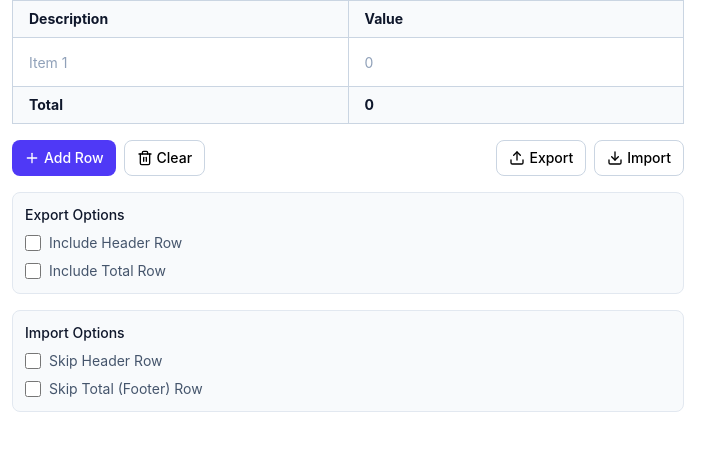
Test case: ColumnSumTable › Table Clear › should clear validation errors when Clear is clicked
Type "invalid" into the field named "value for row 1" at (516, 62), box [352, 42, 679, 82]
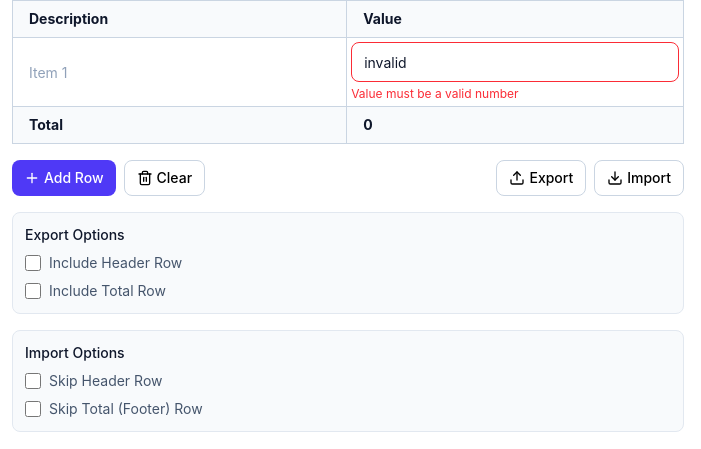
expect the text "Value must be a valid number" is shown: met, box [351, 86, 519, 101]
Click the button "Clear" at (164, 178), box [124, 160, 205, 196]
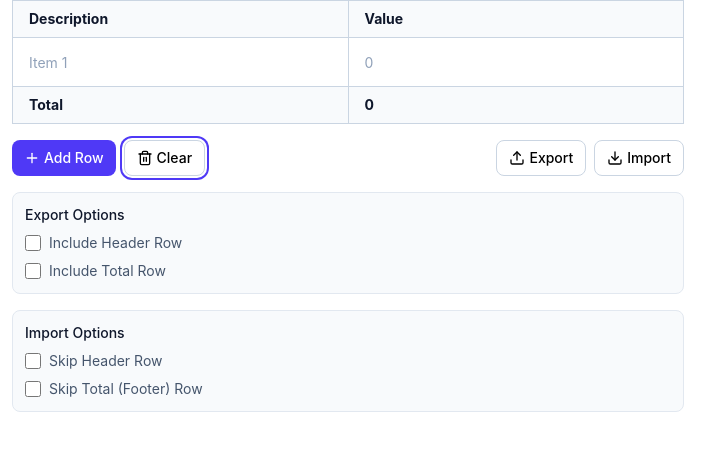
expect the text "Value must be a valid number" is gone: met
